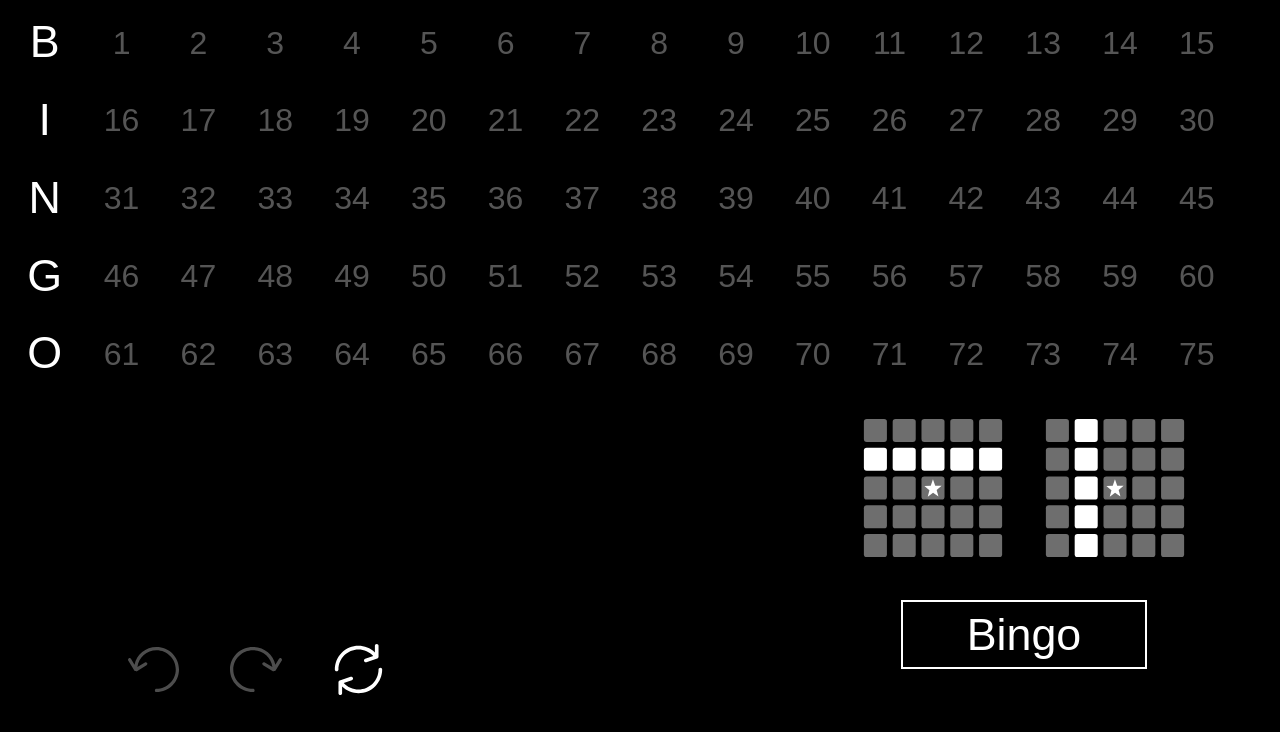
Test: control mode › each change pushes the state that includes it
Click the button "7".
click(582, 43)  # box [544,16,621,71]
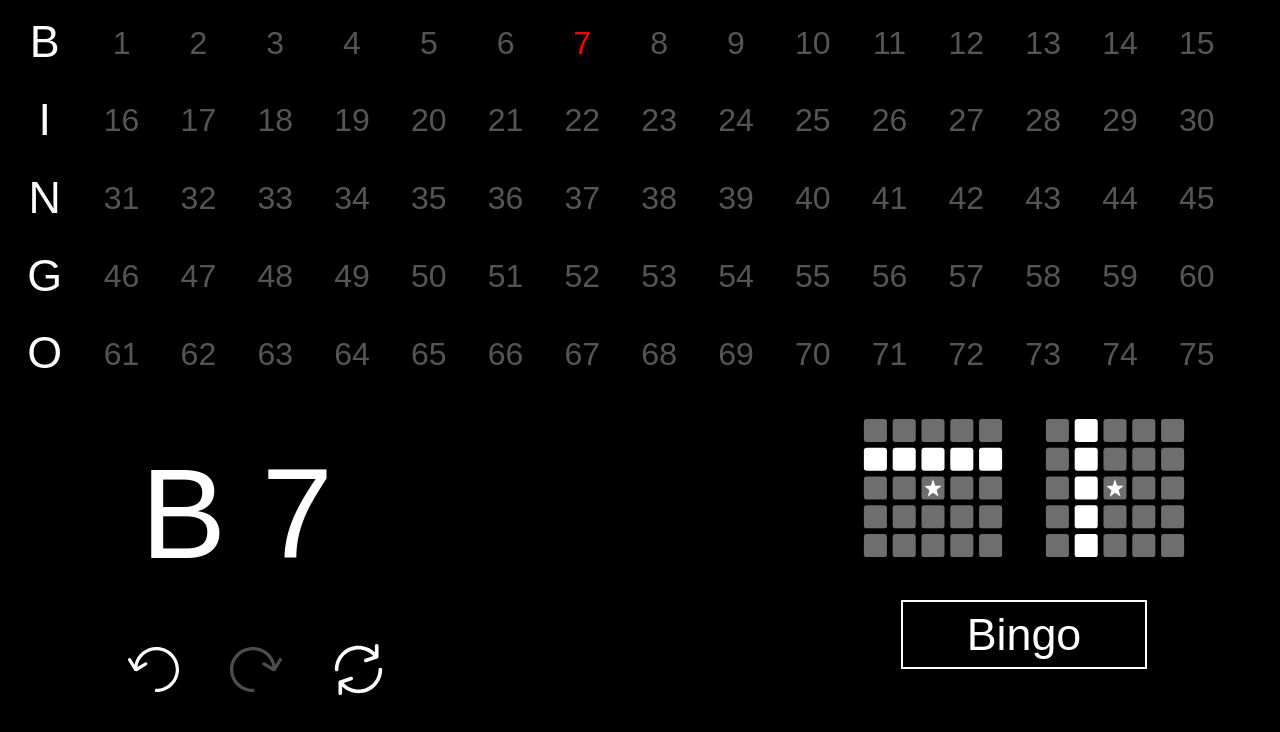
Now the button "7" is disabled, box [544,16,621,71]
Click the 3rd button named "Undo".
click(154, 673)  # box [102,635,205,711]
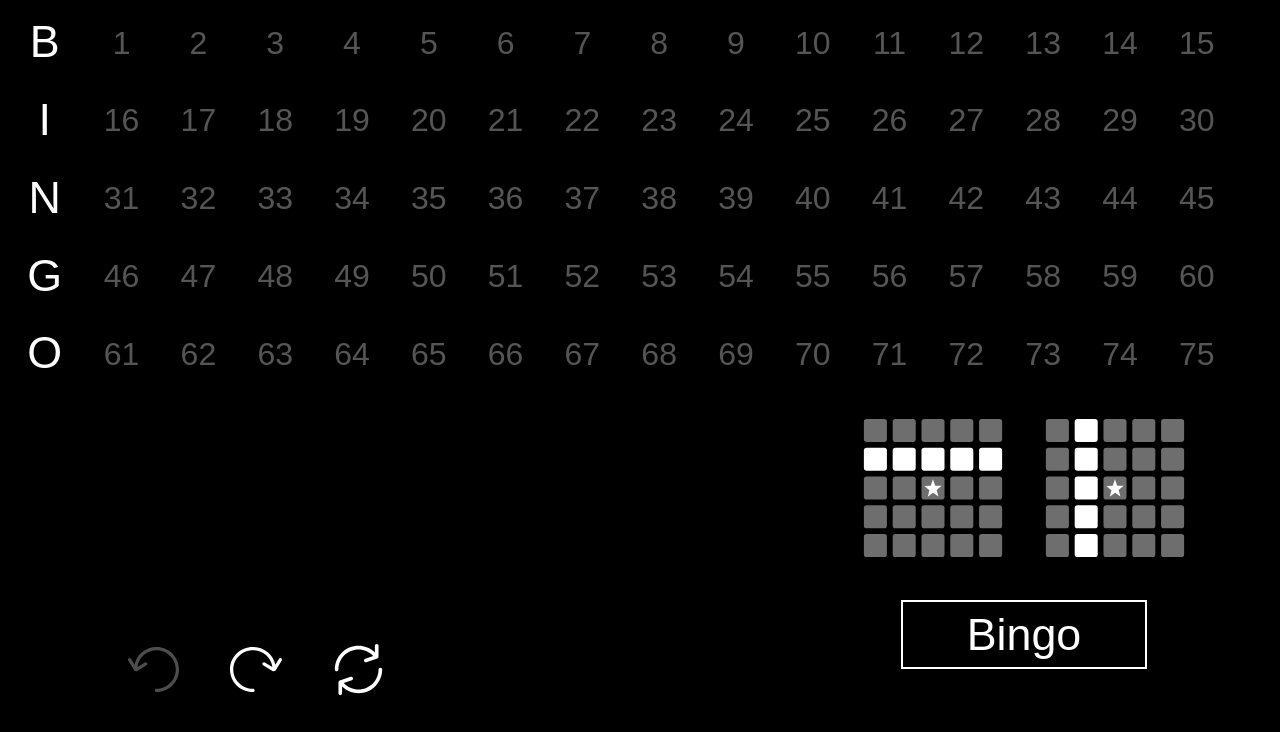
Now the button "7" is enabled, box [544,16,621,71]
